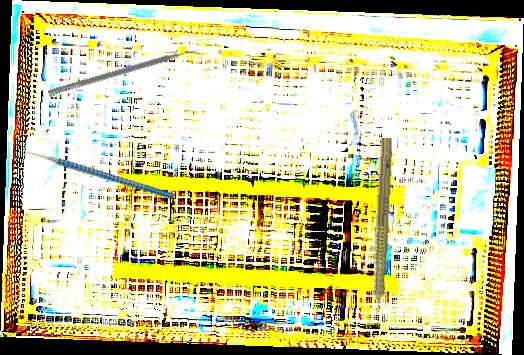Chopper: (12, 104, 176, 248)
Handpiece: (363, 137, 396, 329)
Spatula Surgical: (47, 44, 201, 103)
